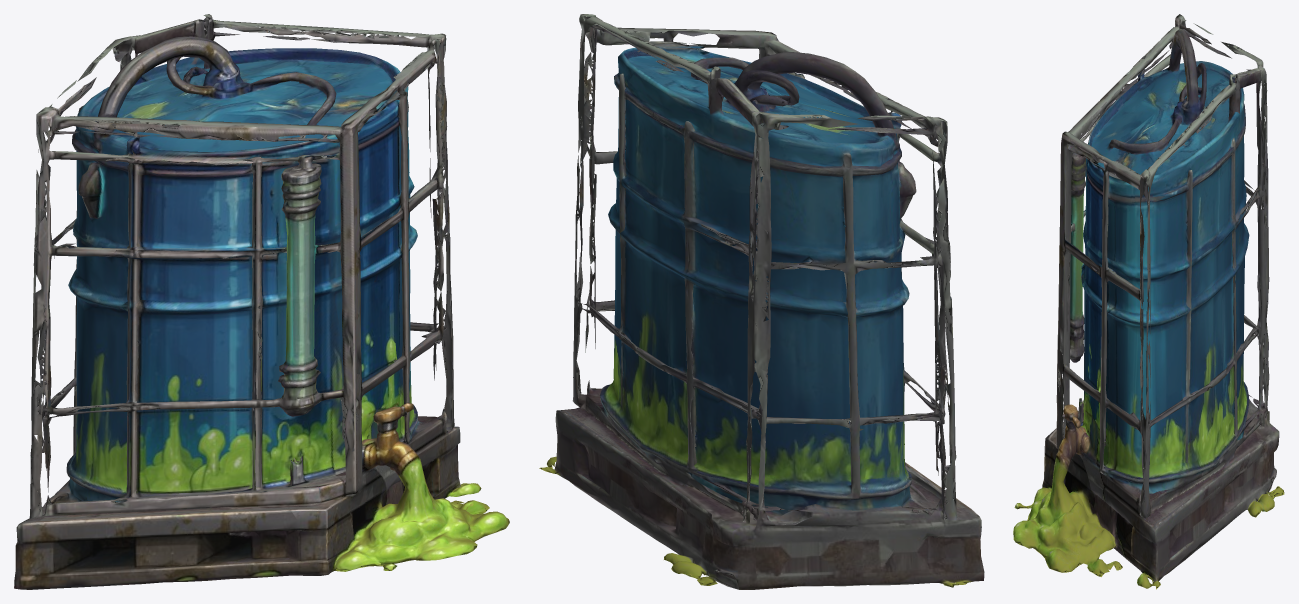
The model's file is detergent_tank.glb.
3 views of the same model, side by side, from view 1: azimuth 30°, elevation 25°; view 2: azimuth 150°, elevation 25°; view 3: azimuth 270°, elevation 25° (orthographic). The views are drawn at different scales.
Visible parts, largest first — view 1: piece; view 2: piece; view 3: piece.
Part boxes in pixels (box(x1,y1,x2,y2)): piece: box(14, 14, 509, 589); piece: box(539, 14, 984, 589); piece: box(1013, 14, 1284, 589).
Bounding box in the file's own units: 1.5 × 1.6 × 0.9.
1 material, 1 textured.
